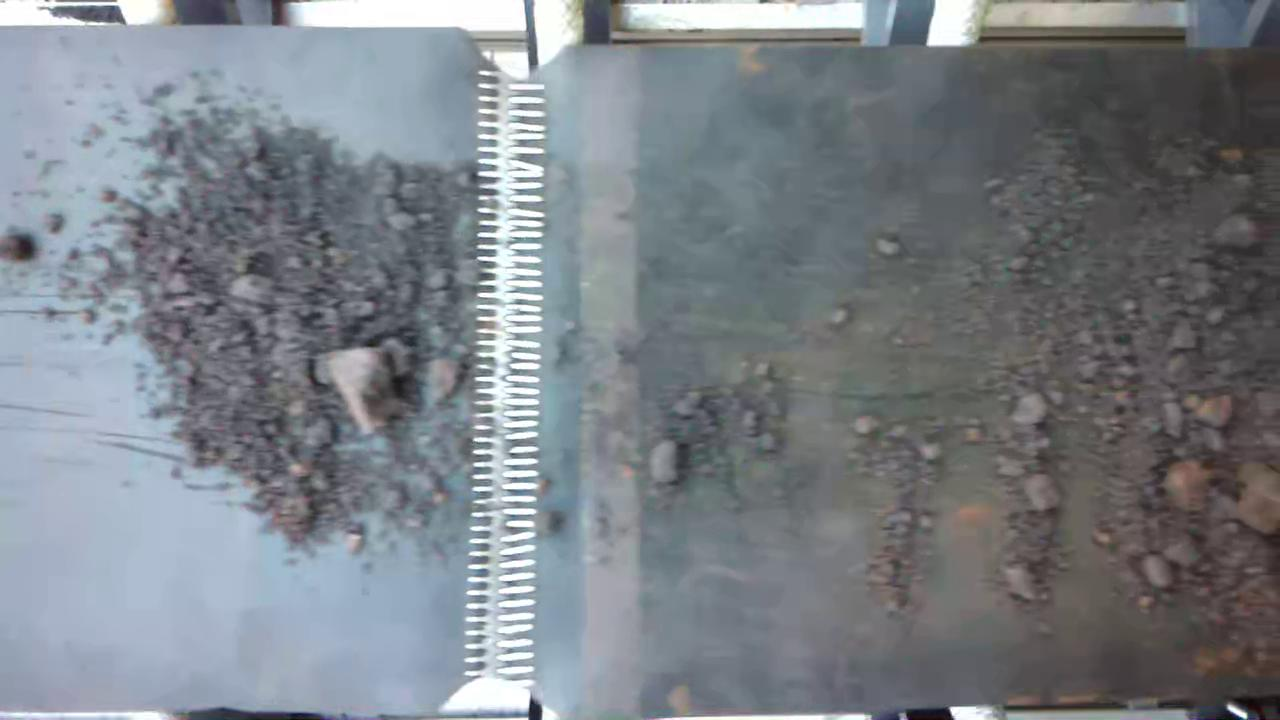conveyor: (0, 54, 1280, 690)
